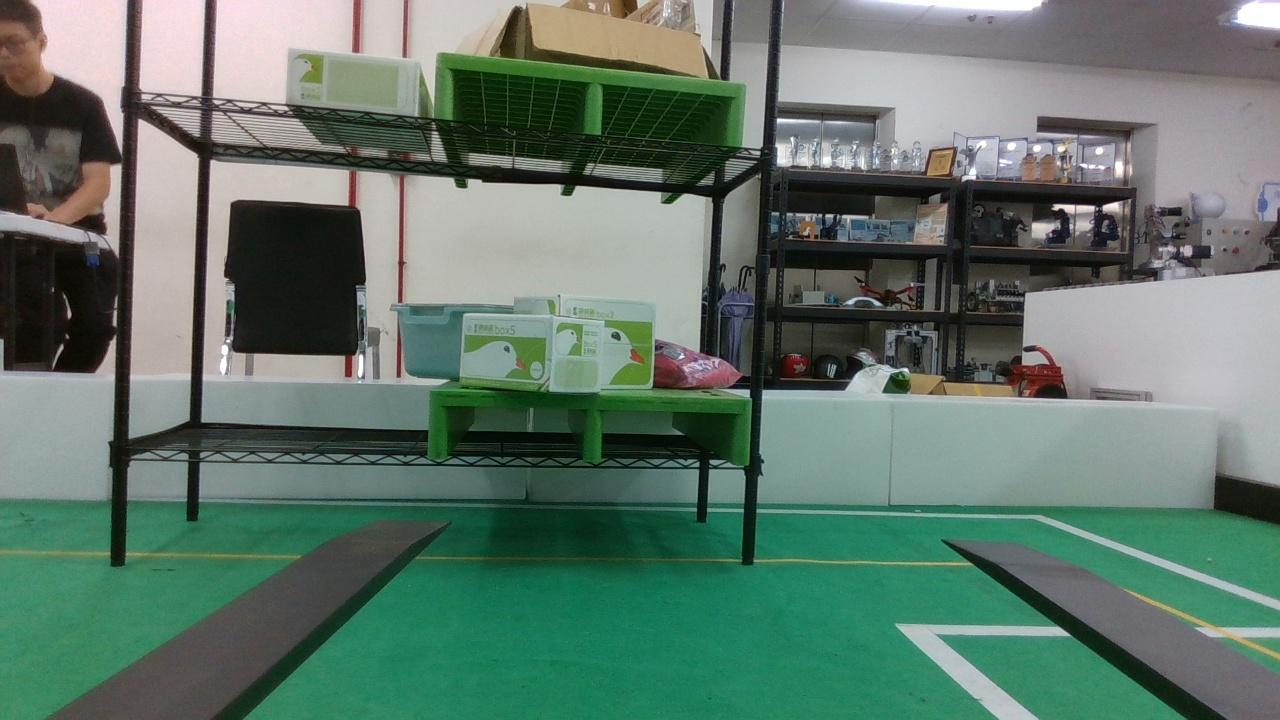Pallet: (439, 52, 745, 149), (431, 387, 752, 465)
